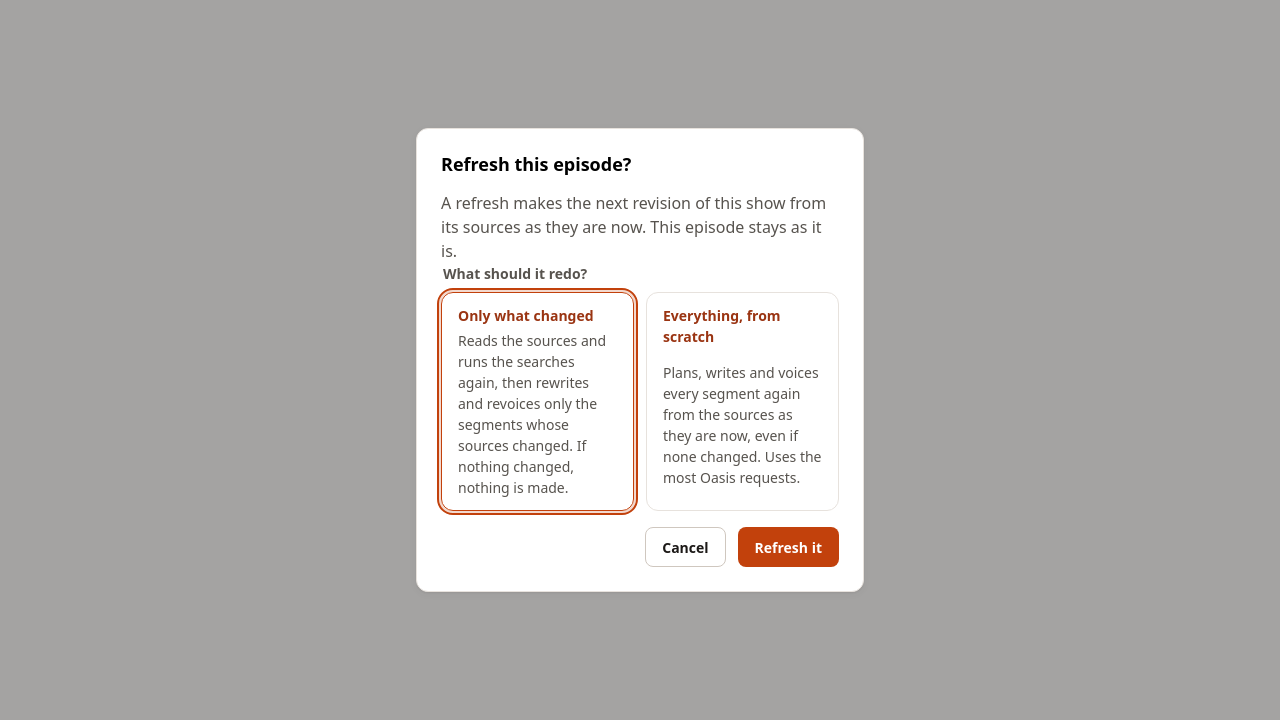
Test: refreshing an episode › can rebuild every segment
The width and height of the screenshot is (1280, 720).
Step 1. Click the radio button labelled "Everything, from scratch" → (742, 402), box [646,292,839,511]
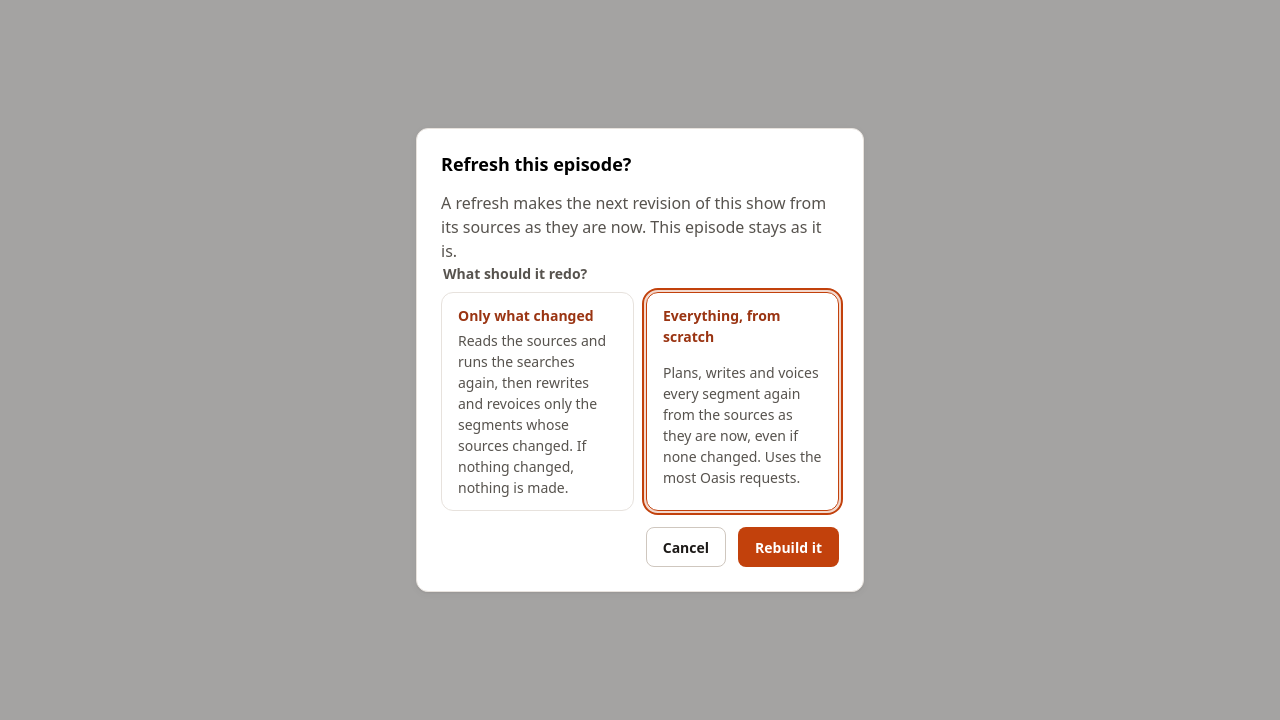
Step 2. Click the button "Rebuild it" → (788, 547), box [738,527,839,567]
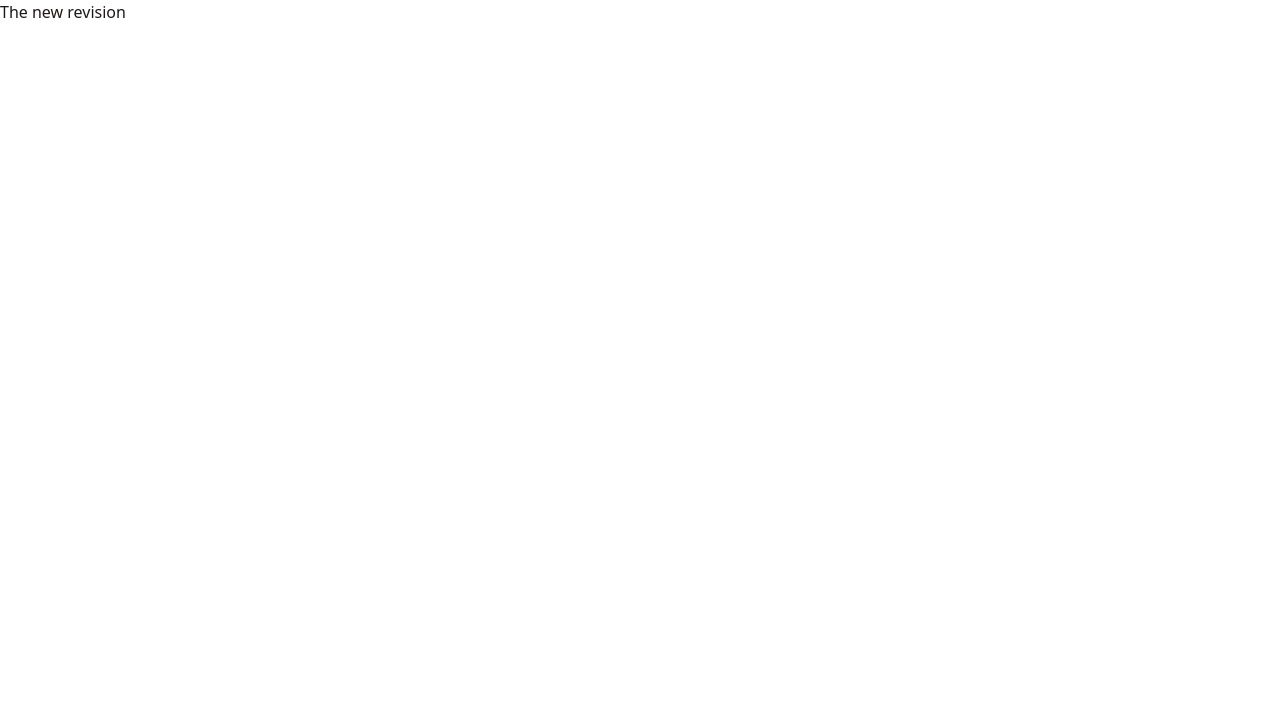
Expected: the text "The new revision" is shown, [0,1,126,23]
